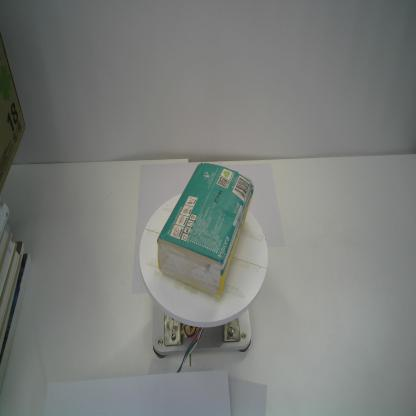Tissue: (157, 162, 254, 298)
